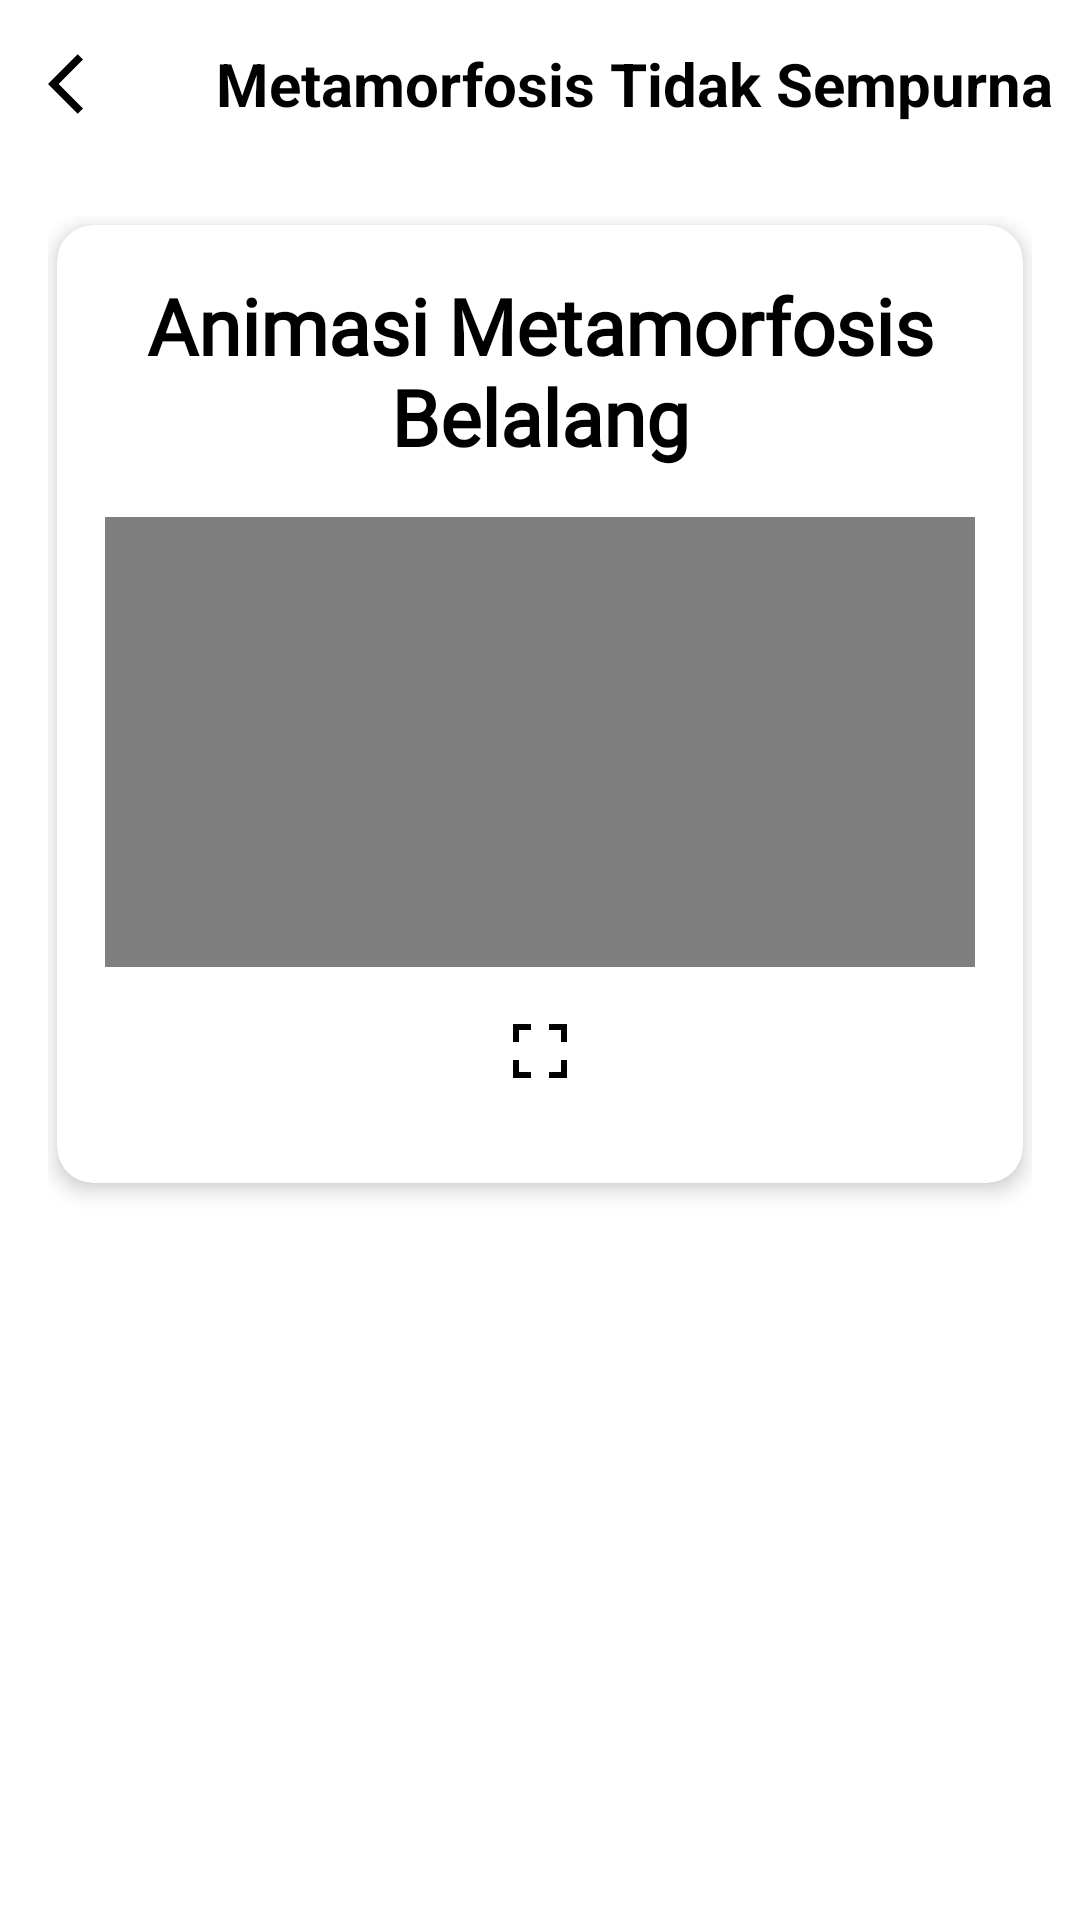

Where icons sit on this 1080px×1920px app screen, as [x1=x1, y1=y1, x2=x2, y2=y2]:
Fullscreen: [x1=513, y1=1024, x2=567, y2=1078]
